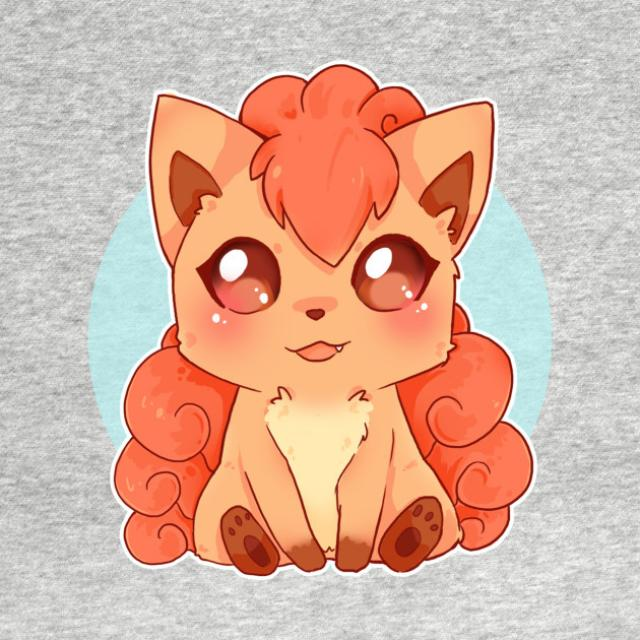Vulpix: (142, 75, 501, 564)
